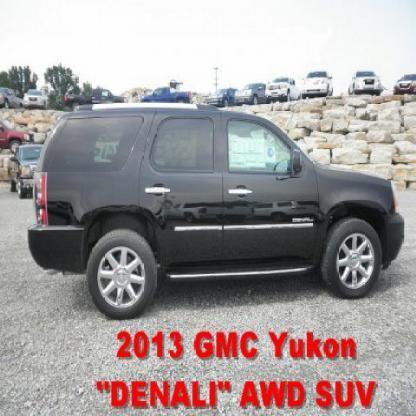Vehicle: (29, 101, 406, 321)
